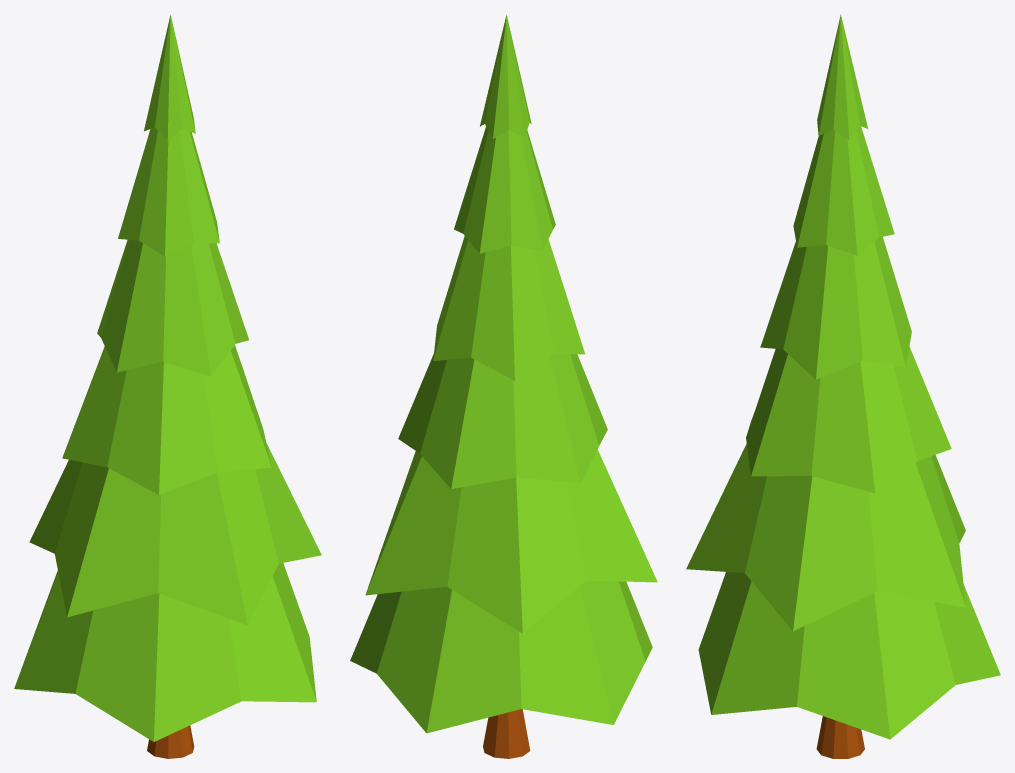
3 renders of one model, left to right at view 1: azimuth 30°, elevation 25°; view 2: azimuth 150°, elevation 25°; view 3: azimuth 270°, elevation 25°, orthographic.
Visible parts, largest first — view 1: tree; view 2: tree; view 3: tree.
Boxes of the visible parts, x1,y1,x2,y2 form: tree: [14, 15, 321, 758]; tree: [350, 15, 657, 758]; tree: [686, 14, 1000, 758].
Size of the model in its own units: 278 by 741 by 288.
